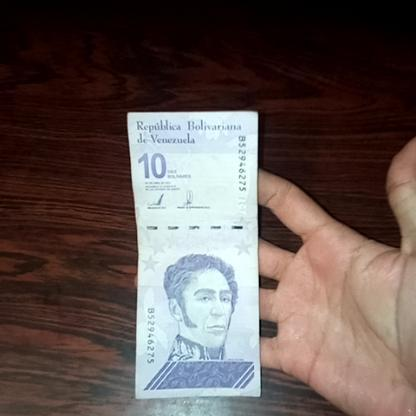ten-front-vef: (128, 112, 262, 400)
